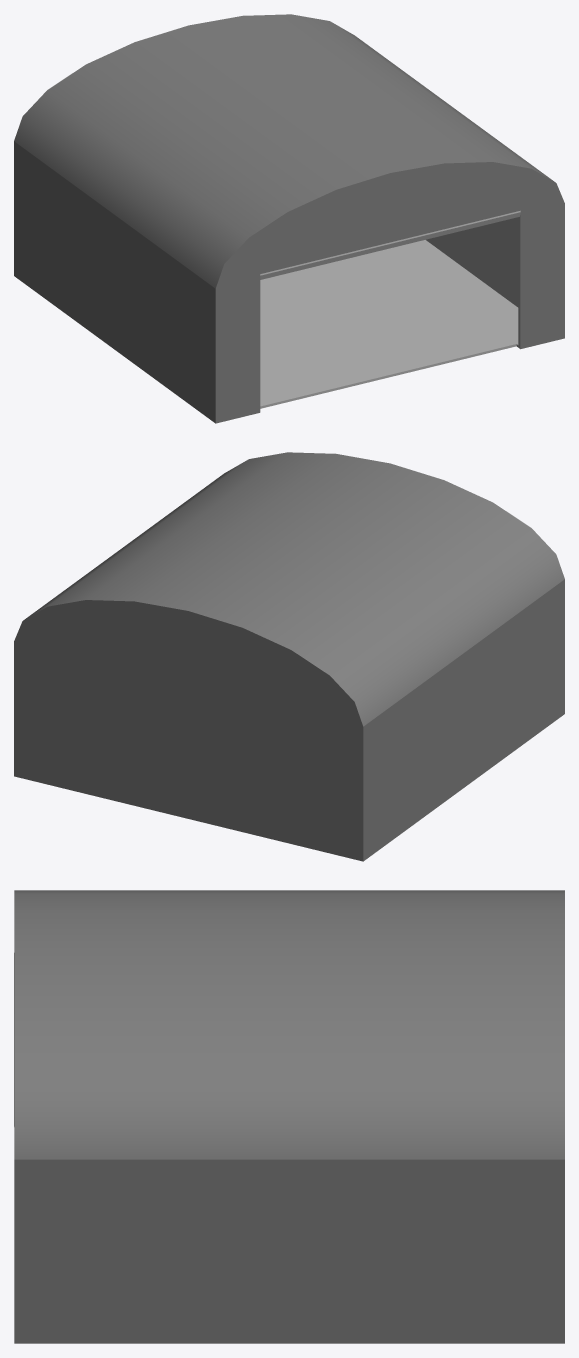
The model's file is VehicleHangar_01.fbx.
The picture shows the model from 3 angles, top to bottom: view 1: azimuth 30°, elevation 25°; view 2: azimuth 150°, elevation 25°; view 3: azimuth 270°, elevation 25°; orthographic projection. The views are drawn at different scales.
Parts seen in each view (by area): view 1: VechileHangar_01_Body; view 2: VechileHangar_01_Body; view 3: VechileHangar_01_Body.
Part boxes in pixels (x1=…): VechileHangar_01_Body: x1=14, y1=14, x2=564, y2=423; VechileHangar_01_Body: x1=14, y1=452, x2=564, y2=861; VechileHangar_01_Body: x1=14, y1=890, x2=564, y2=1343.
Bounding box in the file's own units: 50 × 28.45 × 50.04.
